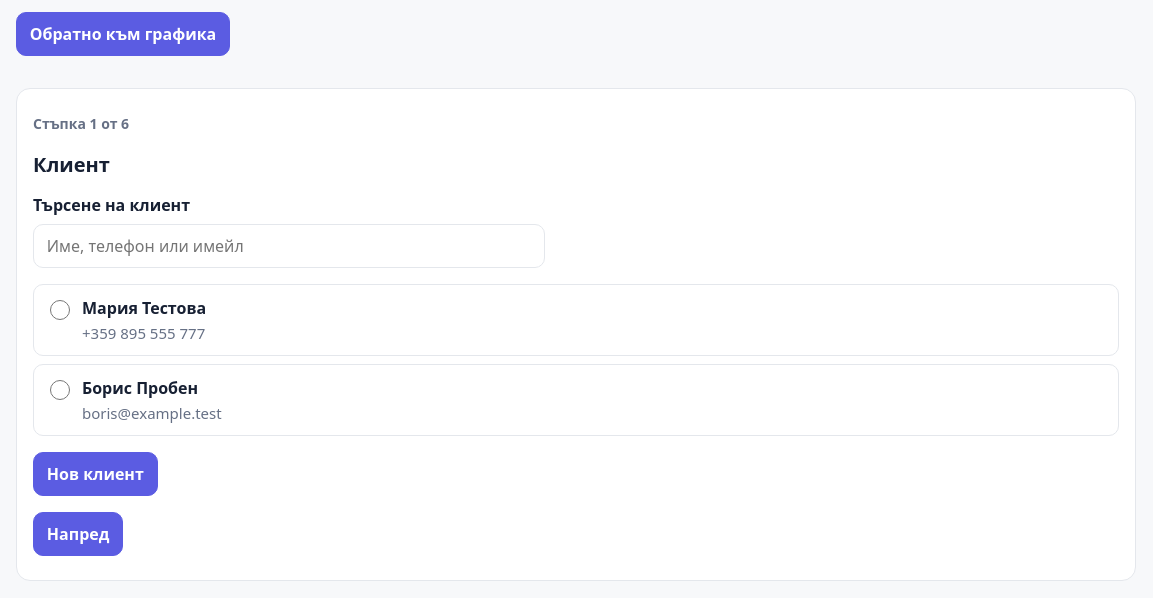
Test: Customer › searches by containing, case-insensitive text through the POST body only, after the debounce
Type "ОРИ" into the field labelled "Търсене на клиент" at x=289, y=246, box [33,224,545,268]
Wait 300 ms
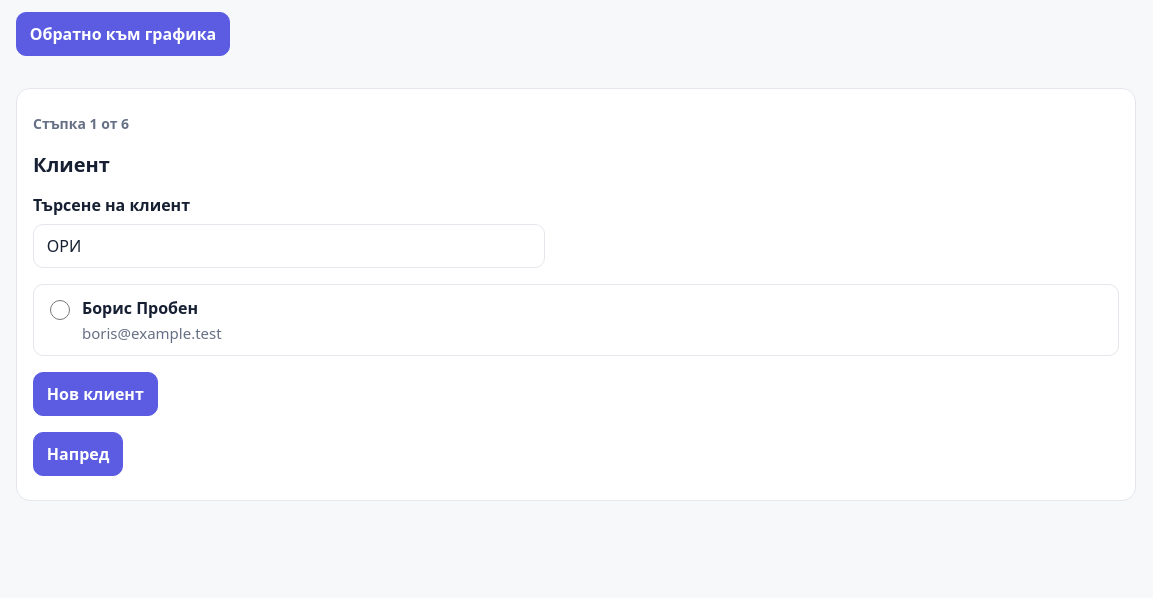
Expected: the radio button labelled "Борис Пробен boris@example.test" is shown, [50,300,70,320]
Expected: the text "Мария" is gone
